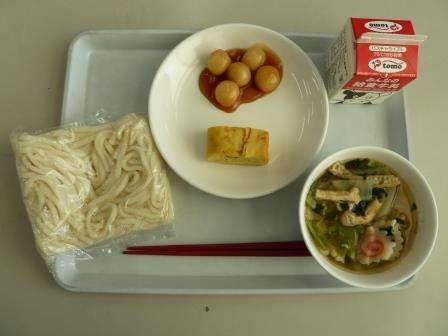Milk: (322, 19, 428, 106)
Udon: (4, 117, 170, 252)
green olives: (191, 42, 288, 116)
pie: (191, 118, 285, 173)
vegetable soup: (293, 151, 439, 275)
